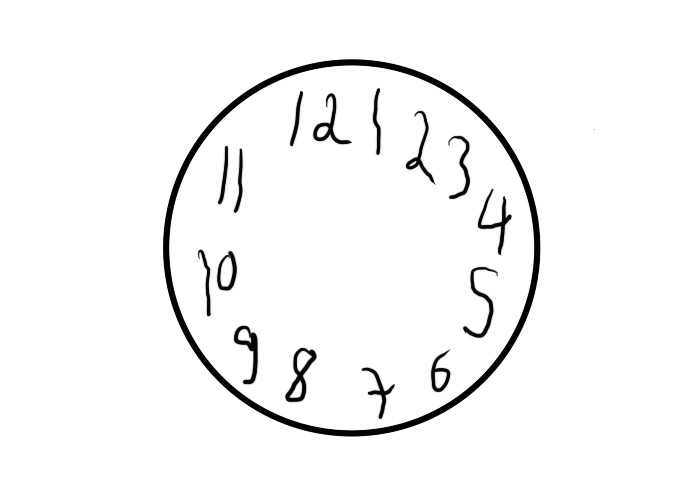eight: (285, 344, 318, 404)
eleven: (214, 144, 247, 215)
five: (462, 264, 498, 339)
four: (476, 185, 512, 256)
nine: (231, 324, 258, 385)
one: (369, 86, 388, 157)
seven: (358, 362, 395, 418)
six: (425, 346, 453, 393)
ten: (196, 246, 238, 320)
three: (449, 129, 472, 202)
twelve: (291, 88, 351, 147)
two: (404, 108, 436, 185)
